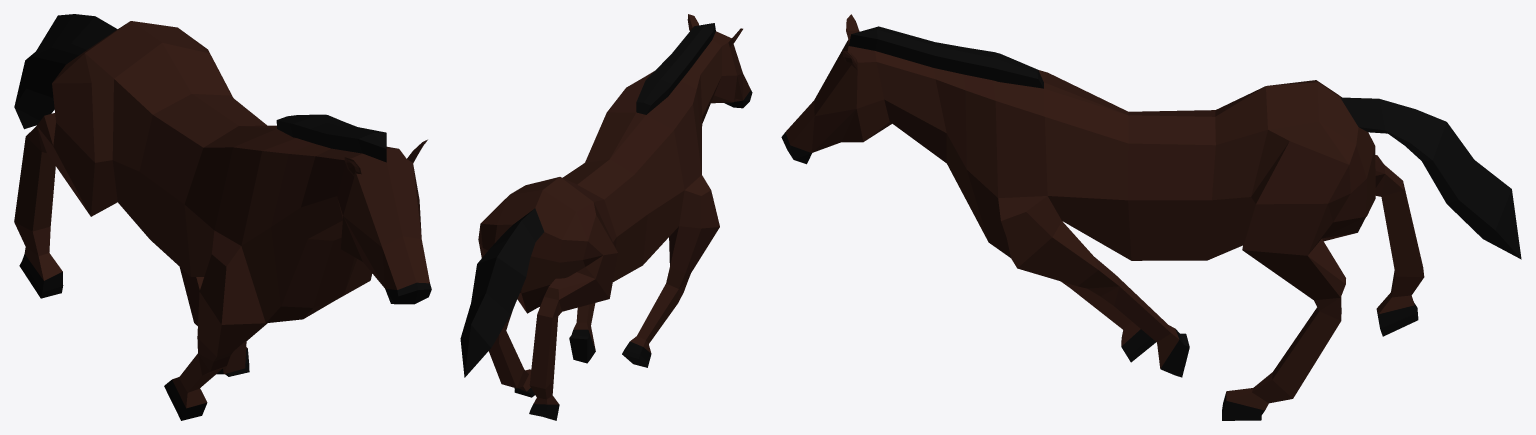
Rendered from Horse_000002.obj.
3 views of the same model, side by side, from view 1: azimuth 30°, elevation 25°; view 2: azimuth 150°, elevation 25°; view 3: azimuth 270°, elevation 25° (orthographic). The views are drawn at different scales.
Visible parts, largest first — view 1: Horse_Cylinder; view 2: Horse_Cylinder; view 3: Horse_Cylinder.
Part boxes in pixels (x1,y1,x2,y2): Horse_Cylinder: [14, 14, 431, 420]; Horse_Cylinder: [460, 14, 752, 420]; Horse_Cylinder: [781, 14, 1521, 420].
Size of the model in its own units: 2.59 by 5.68 by 10.48.
